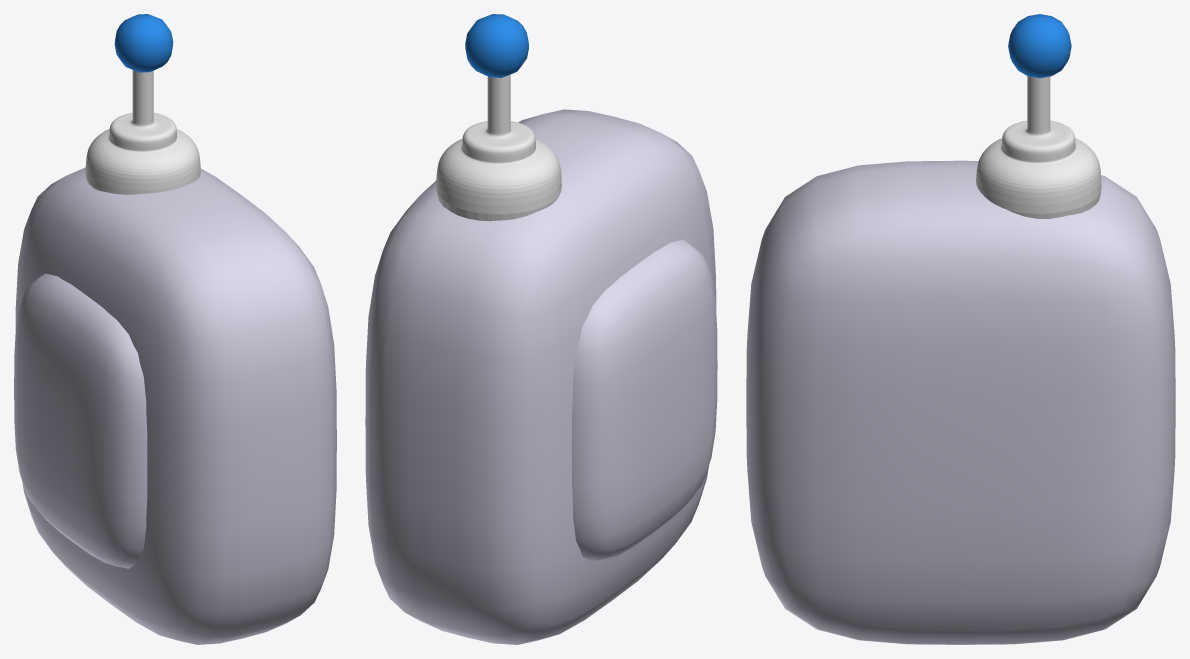
The model's file is astronoutBAG.fbx.
3 renders of one model, left to right at view 1: azimuth 30°, elevation 25°; view 2: azimuth 150°, elevation 25°; view 3: azimuth 270°, elevation 25°, orthographic. The views are drawn at different scales.
Parts seen in each view (by area): view 1: Bag, Cube.008, Cylinder, Cube.007; view 2: Bag, Cube.008, Cylinder, Cube.007; view 3: Bag, Cylinder, Cube.007.
Part boxes in pixels (x1,y1,x2,y2): Bag: (15, 167, 336, 644); Cube.008: (14, 273, 147, 568); Cylinder: (85, 70, 200, 194); Cube.007: (114, 14, 173, 72); Bag: (365, 109, 716, 644); Cube.008: (572, 240, 717, 561); Cylinder: (436, 74, 561, 221); Cube.007: (465, 14, 528, 77); Bag: (746, 160, 1175, 644); Cylinder: (976, 76, 1101, 218); Cube.007: (1008, 14, 1071, 78).
Size of the model in its own units: 65.07 by 162 by 103.
